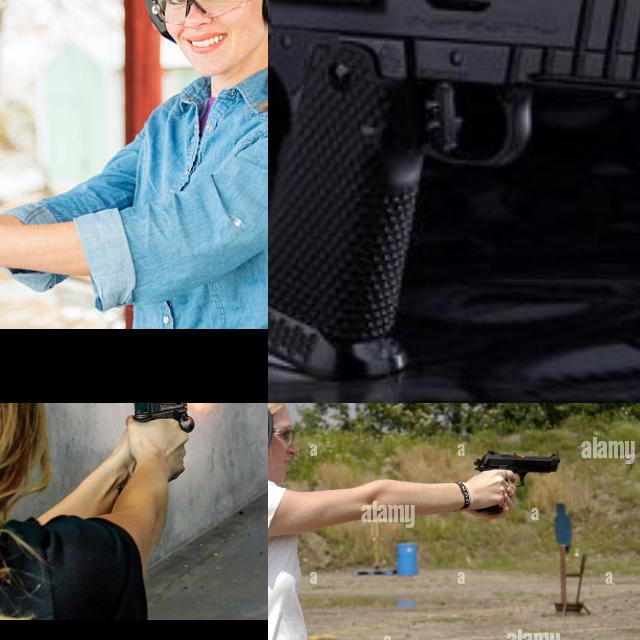handgun: (268, 0, 640, 390), (0, 167, 63, 254), (472, 444, 562, 490), (130, 403, 196, 426)
